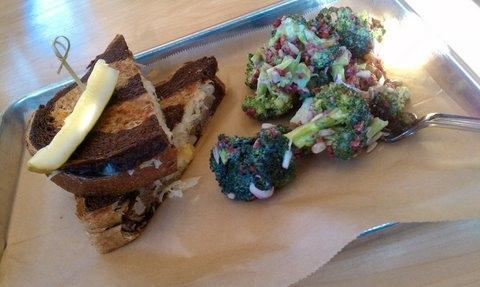broccoli: (283, 81, 373, 148), (209, 133, 272, 202), (315, 6, 375, 60), (241, 66, 294, 121), (304, 30, 342, 70), (369, 87, 411, 121), (270, 14, 306, 47), (244, 53, 256, 89), (358, 9, 372, 29), (270, 54, 284, 66)
